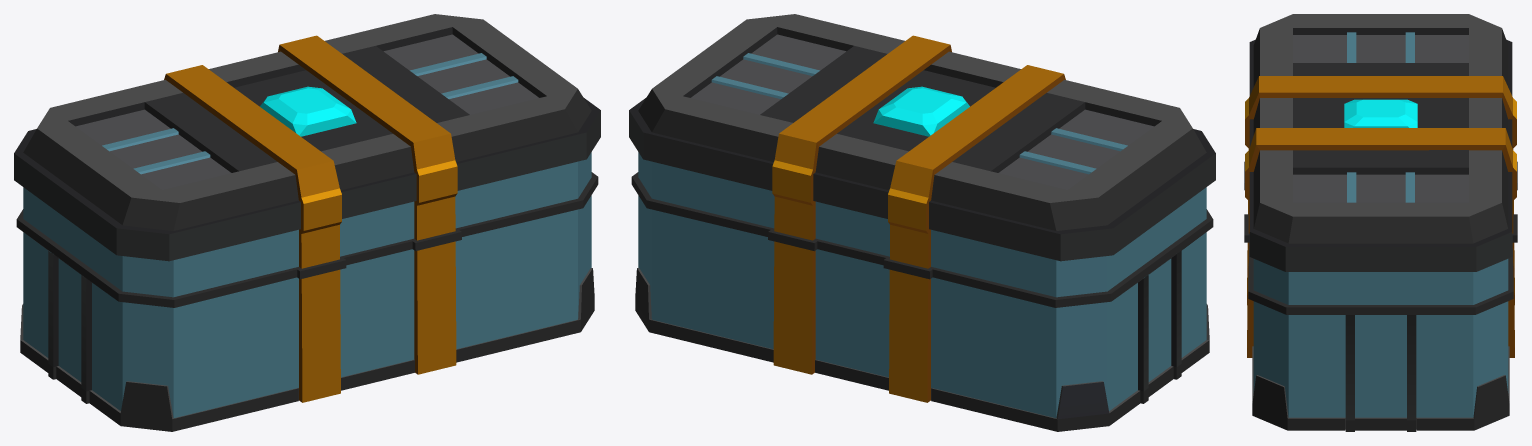
File: CrateBlueBig_01.glb
3 views of the same model, side by side, from view 1: azimuth 30°, elevation 25°; view 2: azimuth 150°, elevation 25°; view 3: azimuth 270°, elevation 25° (orthographic). The views are drawn at different scales.
Parts seen in each view (by area): view 1: CrateBlueBig_01; view 2: CrateBlueBig_01; view 3: CrateBlueBig_01.
Boxes of the visible parts, left/top/right/bottom form: CrateBlueBig_01: left=14, top=14, right=600, bottom=431; CrateBlueBig_01: left=629, top=14, right=1215, bottom=431; CrateBlueBig_01: left=1244, top=14, right=1517, bottom=431.
Size of what is drawn, in the model's own units: 1.8 by 0.8172 by 0.9446.
Materials: 1 (1 with a texture image).
